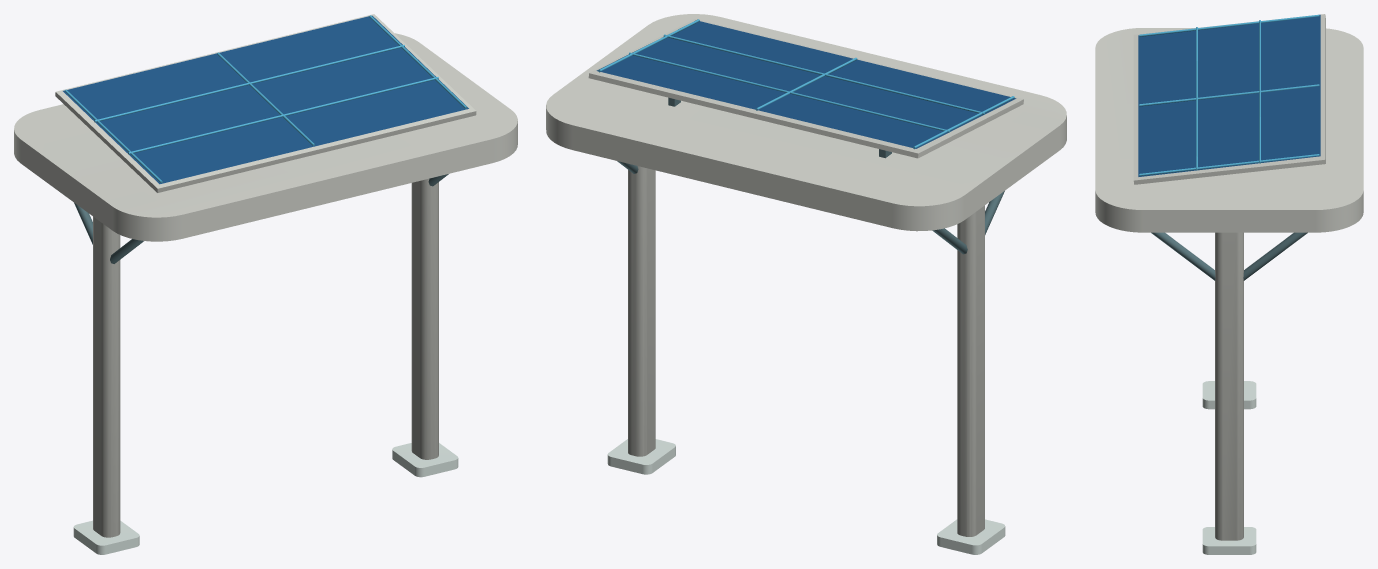
File: solar-canopy.glb
3 renders of one model, left to right at view 1: azimuth 30°, elevation 25°; view 2: azimuth 150°, elevation 25°; view 3: azimuth 270°, elevation 25°, orthographic. The views are drawn at different scales.
Visible parts, largest first — view 1: solar shade column, photovoltaic cells, solar cell division, canopy base plate, panel foot; view 2: solar shade column, photovoltaic cells, canopy base plate, solar cell division, panel foot; view 3: solar shade column, photovoltaic cells, solar cell division, canopy base plate, panel foot.
Boxes of the visible parts, <box> form: solar shade column: <box>14,14,517,537</box>; photovoltaic cells: <box>63,15,468,184</box>; solar cell division: <box>64,15,467,183</box>; canopy base plate: <box>73,443,458,554</box>; panel foot: <box>74,174,448,263</box>; solar shade column: <box>546,14,1066,536</box>; photovoltaic cells: <box>596,21,1016,148</box>; canopy base plate: <box>607,439,1005,554</box>; solar cell division: <box>598,19,1014,149</box>; panel foot: <box>617,97,1004,254</box>; solar shade column: <box>1095,14,1363,540</box>; photovoltaic cells: <box>1138,14,1320,176</box>; solar cell division: <box>1139,14,1319,175</box>; canopy base plate: <box>1202,381,1256,554</box>; panel foot: <box>1151,232,1307,280</box>.
Size of the model in its own units: 2.25 by 2.23 by 1.4.
